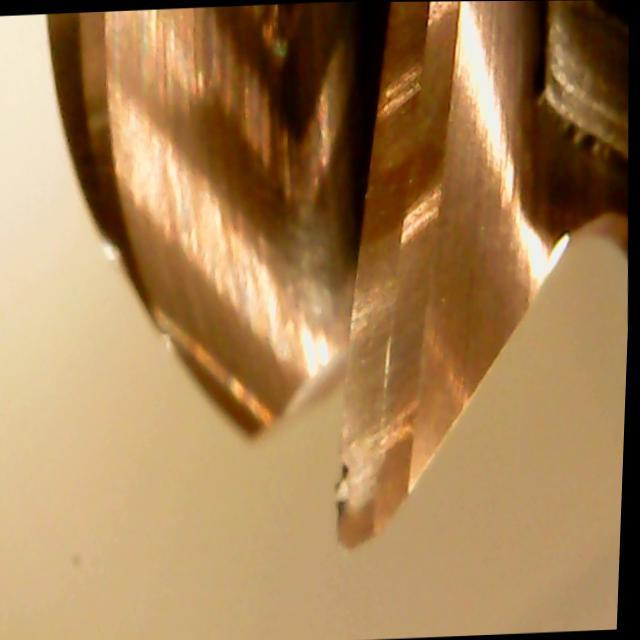Tool-wear-class-1: (312, 293, 459, 555)
